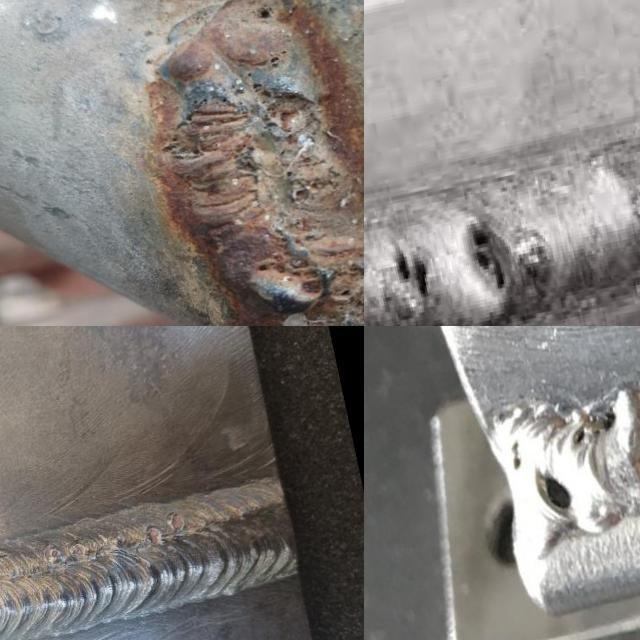defect: (168, 89, 236, 160), (459, 216, 514, 302), (248, 81, 320, 135), (254, 252, 324, 296), (393, 239, 437, 307), (531, 463, 578, 519), (568, 403, 619, 453), (224, 128, 260, 171), (287, 174, 330, 202), (263, 45, 290, 69), (252, 2, 276, 23), (45, 541, 63, 566), (69, 538, 86, 564), (145, 524, 163, 546), (169, 512, 186, 534), (333, 285, 356, 301), (114, 533, 123, 545), (357, 270, 364, 280)
